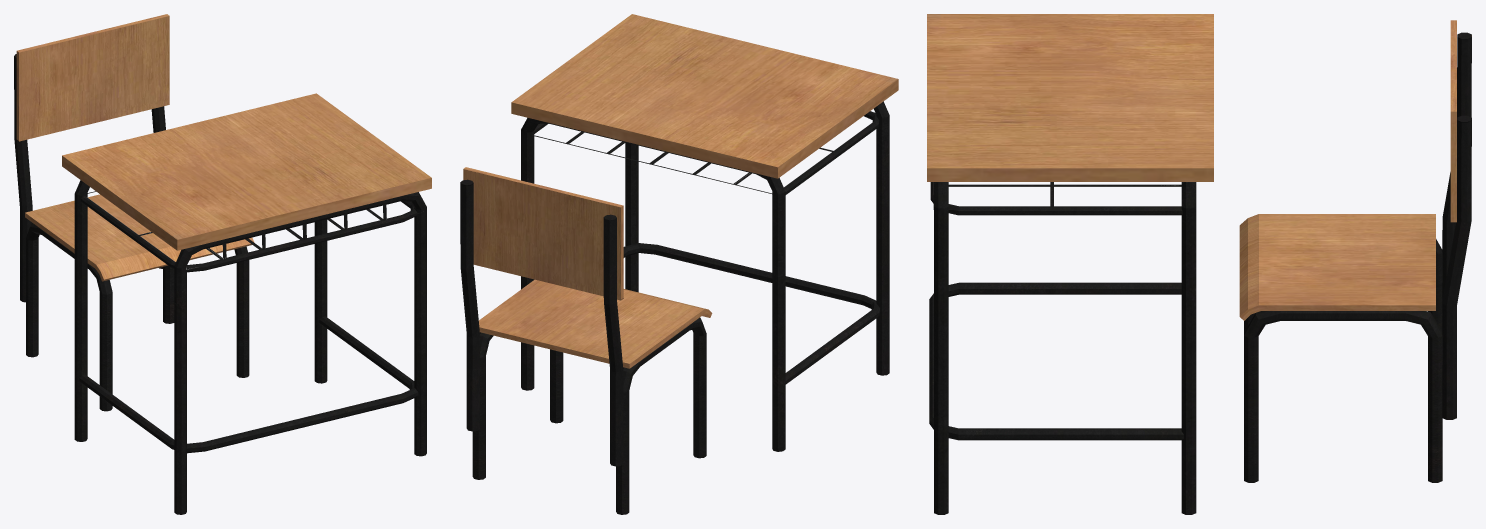
Rendered from school_chair.obj.
3 views of the same model, side by side, from view 1: azimuth 30°, elevation 25°; view 2: azimuth 150°, elevation 25°; view 3: azimuth 270°, elevation 25° (orthographic). The views are drawn at different scales.
Parts seen in each view (by area): view 1: Cube.001, Cube.002; view 2: Cube.001, Cube.002; view 3: Cube.001, Cube.002.
Part boxes in pixels (x1,y1,x2,y2): Cube.001: (62, 93, 431, 514); Cube.002: (14, 14, 254, 411); Cube.001: (511, 14, 898, 451); Cube.002: (460, 167, 712, 514); Cube.001: (927, 14, 1213, 514); Cube.002: (1239, 20, 1471, 482).
Size of the model in its own units: 4.17 by 4.68 by 6.22.
Materials: 2 (2 with a texture image).
